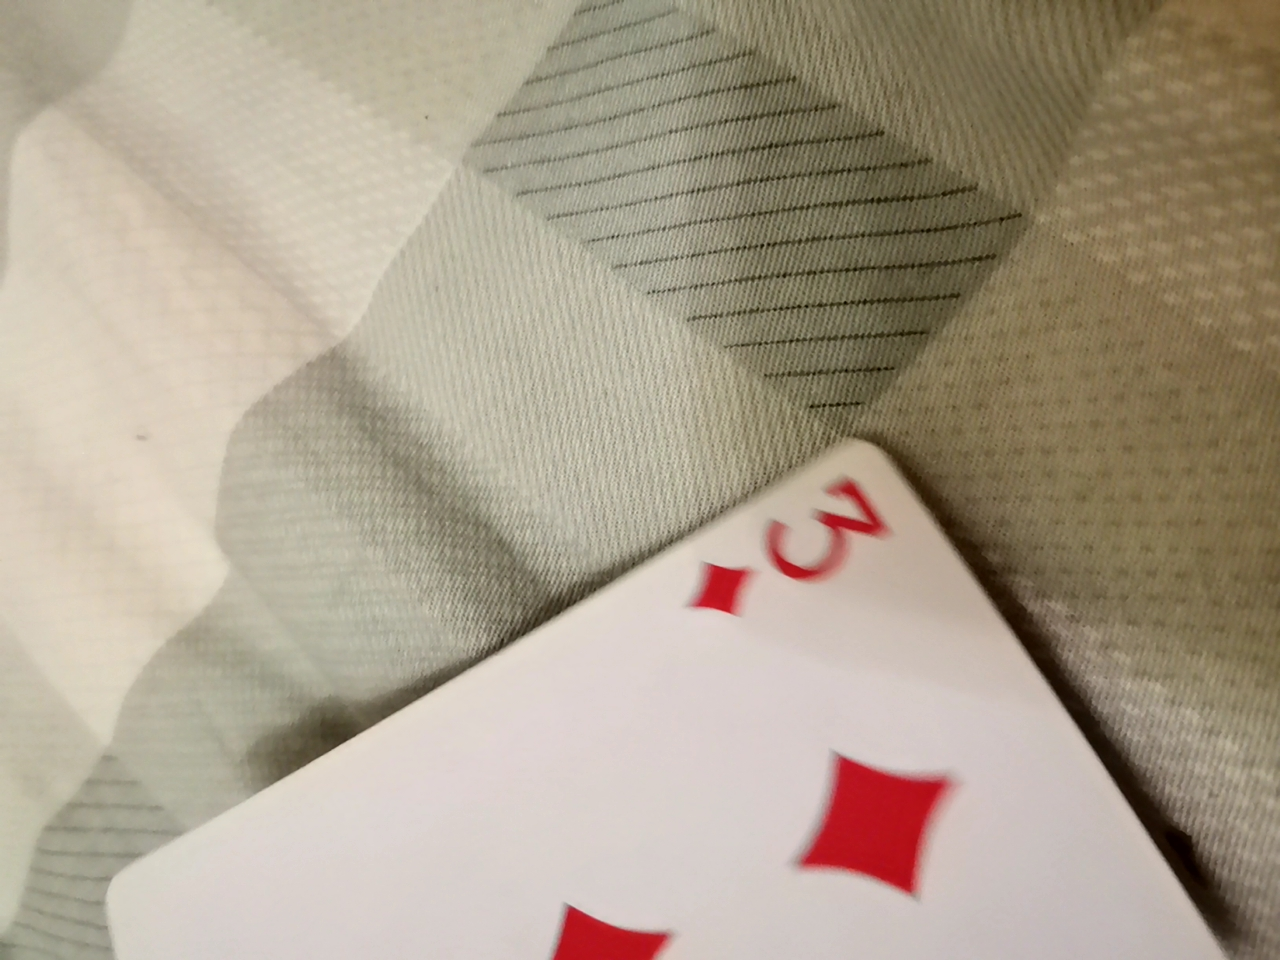fk 3: (31, 472, 1280, 954)
